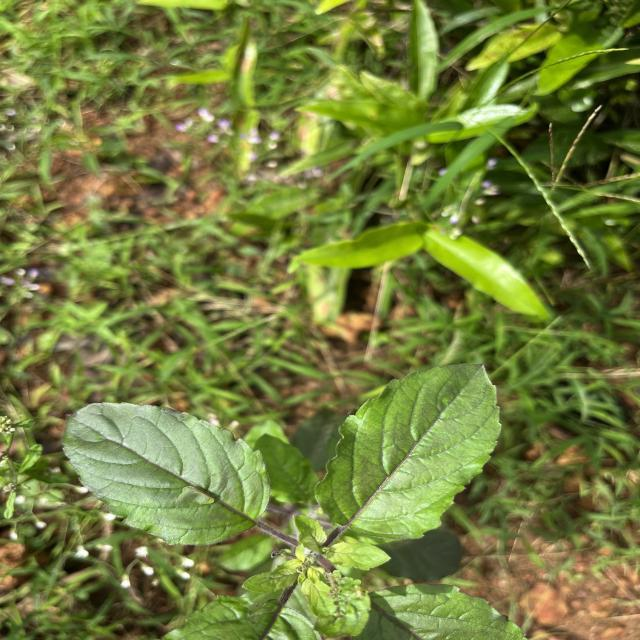Ocimum tenuiflorum: (312, 362, 503, 542), (61, 401, 272, 547)
